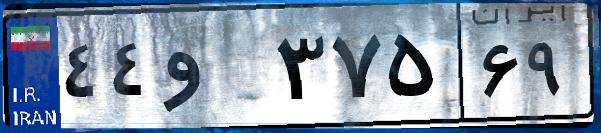3: (270, 28, 330, 110)
4: (57, 26, 110, 100), (110, 28, 158, 98)
5: (385, 28, 445, 110)
6: (475, 38, 525, 113)
7: (330, 28, 385, 110)
9: (525, 38, 570, 115)
و: (158, 20, 270, 120)
